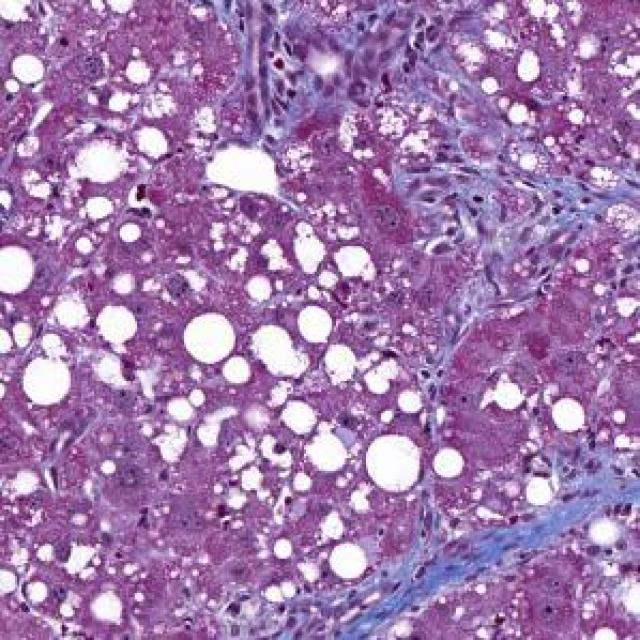fibrosis: (229, 0, 473, 141), (385, 482, 610, 625), (387, 156, 591, 302)
